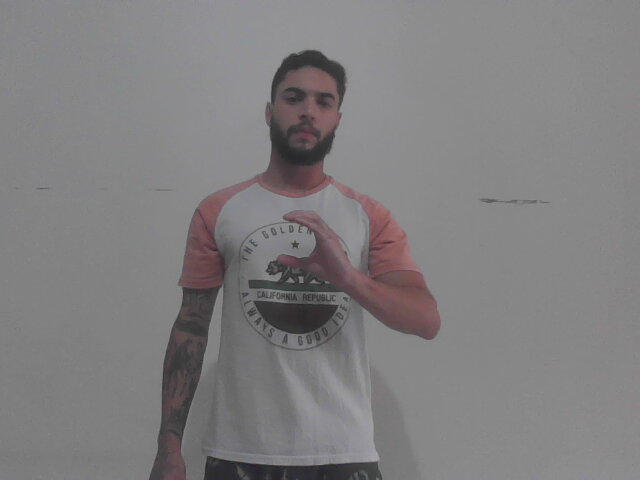c: (276, 203, 357, 286)
